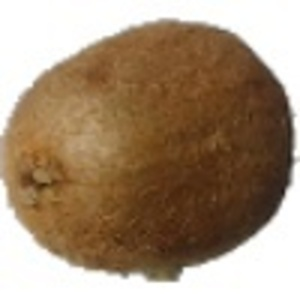kiwi: (1, 18, 300, 285)
